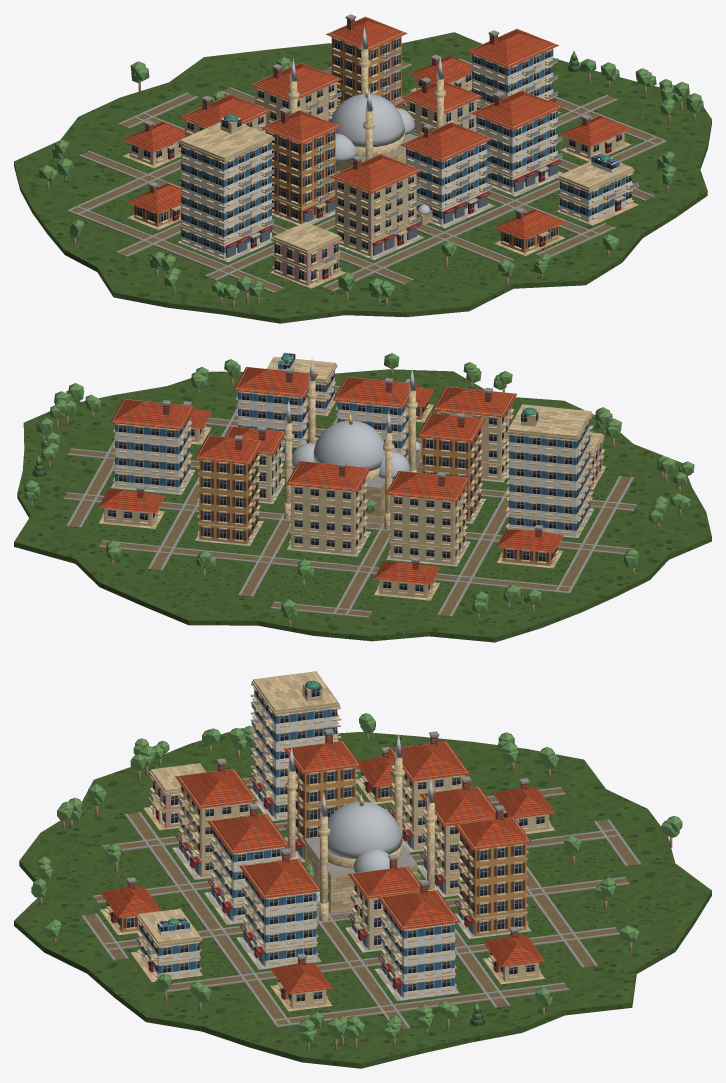
Rendered from city_orient_large.gltf.
3 views of the same model, one above another, from view 1: azimuth 30°, elevation 25°; view 2: azimuth 150°, elevation 25°; view 3: azimuth 270°, elevation 25° (orthographic). The views are drawn at different scales.
Visible parts, largest first — view 1: city_orient_large; view 2: city_orient_large; view 3: city_orient_large.
Boxes of the visible parts, x1,y1,x2,y2 form: city_orient_large: (14,14,711,323); city_orient_large: (14,352,711,642); city_orient_large: (14,671,711,1068).
Size of the model in its own units: 4.43 by 0.9561 by 3.9.
23 materials, 16 textured.
